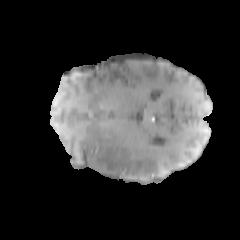glioma: (82, 134, 159, 181)
